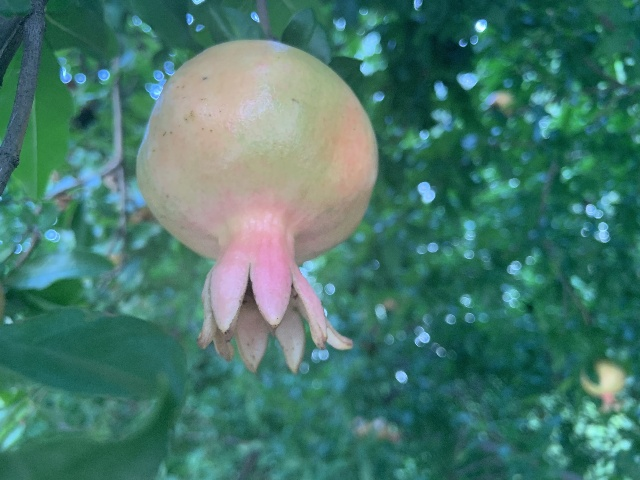mid-growth: (136, 39, 379, 377), (581, 361, 625, 413)
